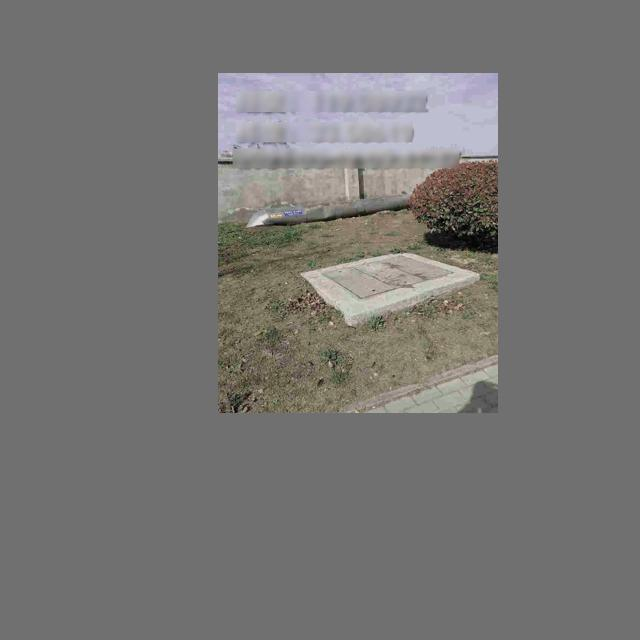good: (319, 254, 455, 300)
